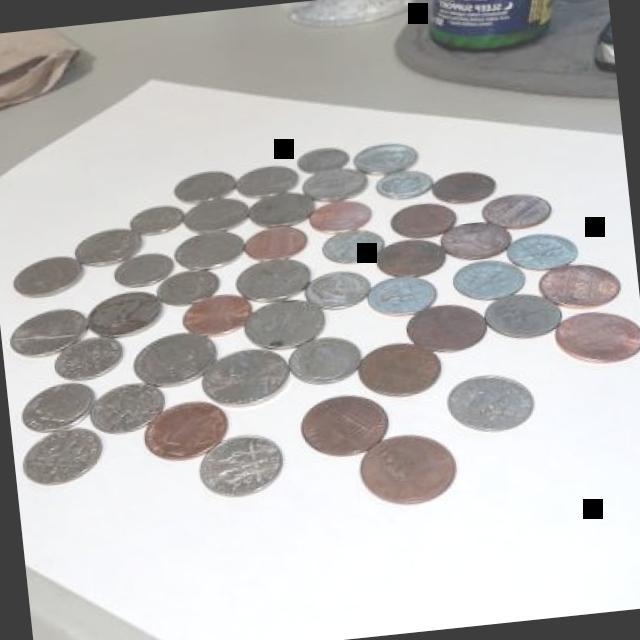Dime: (440, 366, 544, 434), (195, 428, 288, 500), (13, 420, 104, 490), (87, 374, 169, 434), (286, 328, 365, 388), (478, 288, 562, 344), (18, 373, 96, 432), (49, 330, 130, 382), (366, 267, 442, 318), (504, 226, 582, 274), (450, 254, 526, 302), (300, 264, 373, 308), (153, 264, 221, 308), (106, 248, 174, 289), (319, 224, 383, 266), (125, 198, 186, 236), (374, 164, 434, 200), (294, 141, 351, 175)
Nickel: (197, 341, 296, 407), (132, 325, 218, 389), (0, 303, 90, 363), (238, 292, 328, 352), (86, 284, 164, 339), (234, 250, 312, 302), (3, 252, 81, 303), (70, 221, 144, 270), (170, 227, 245, 272), (173, 192, 249, 235), (246, 185, 320, 228), (172, 163, 240, 206), (299, 163, 371, 202), (351, 135, 422, 174), (232, 162, 298, 198)
Penny: (352, 425, 465, 512), (296, 390, 390, 458), (140, 398, 230, 468), (550, 301, 640, 368), (355, 338, 444, 400), (530, 255, 626, 312), (398, 294, 488, 354), (370, 231, 448, 281), (438, 218, 513, 262), (180, 289, 253, 334), (240, 219, 312, 262), (387, 196, 457, 240), (483, 188, 551, 233), (304, 195, 373, 238), (430, 166, 494, 202)
